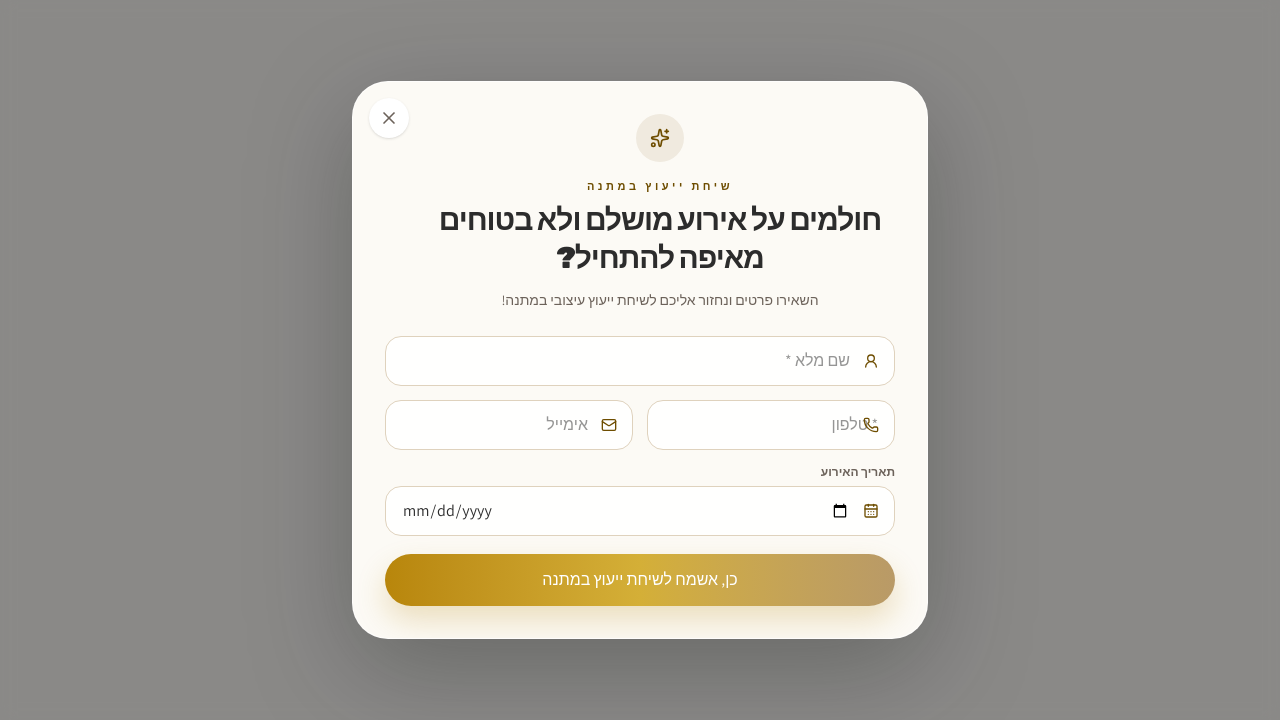
Test: LeadCaptureModal › validates email format only when an email was supplied
The width and height of the screenshot is (1280, 720).
Type "ניסן סיני" into the field labelled "שם מלא".
click(640, 361); type("ניסן סיני")  # box left=385, top=336, right=895, bottom=386
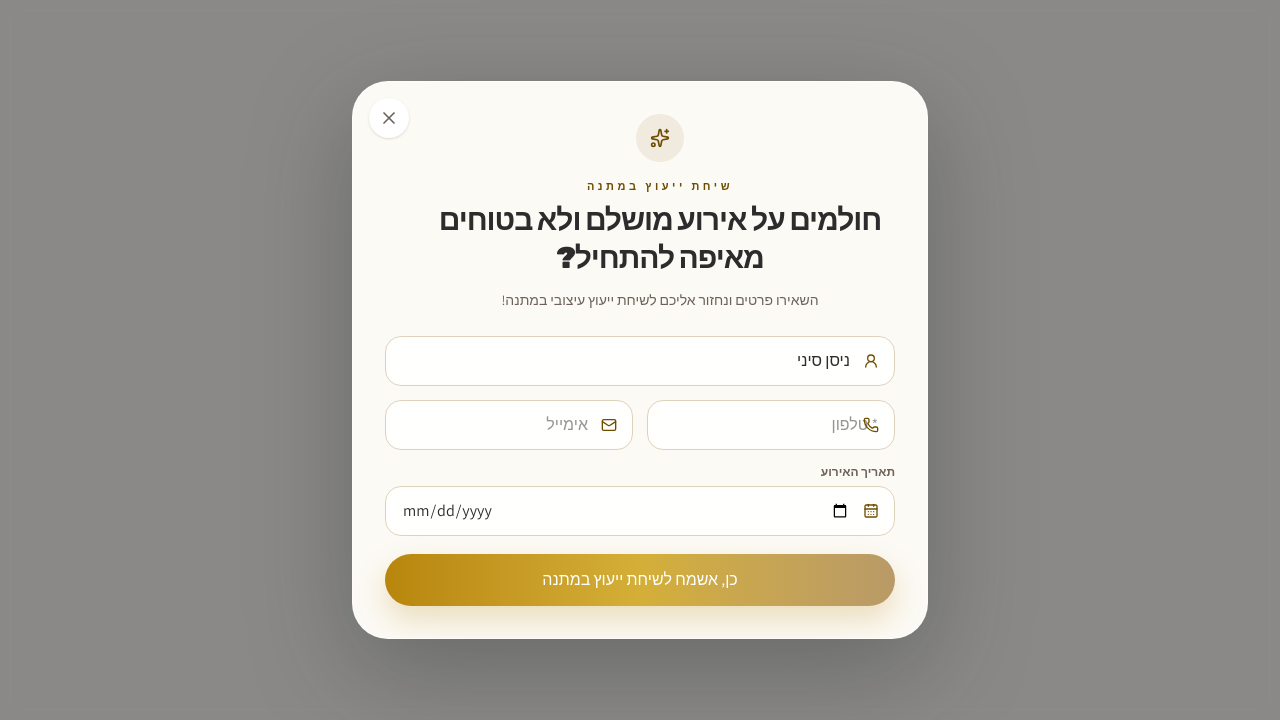
Type "054-1234567" into the field labelled "טלפון".
click(771, 425); type("054-1234567")  # box left=647, top=400, right=895, bottom=450
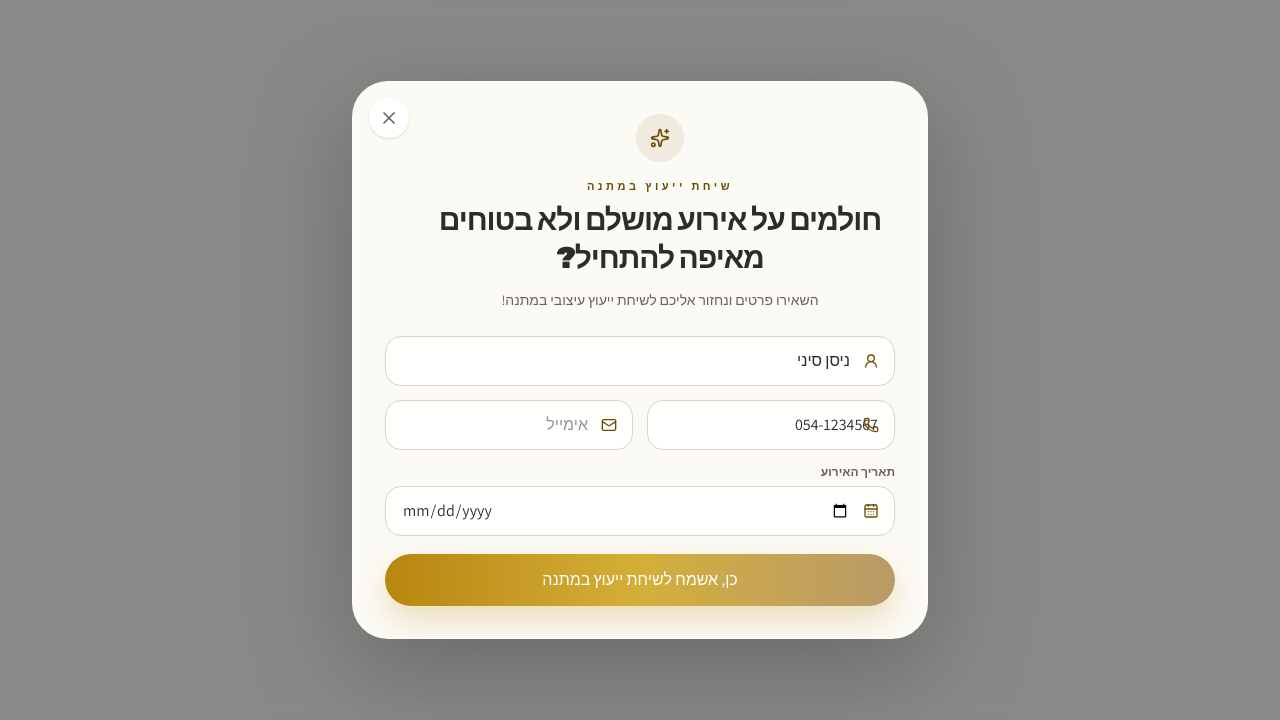
Type "not-an-email" into the field labelled "אימייל".
click(509, 425); type("not-an-email")  # box left=385, top=400, right=633, bottom=450
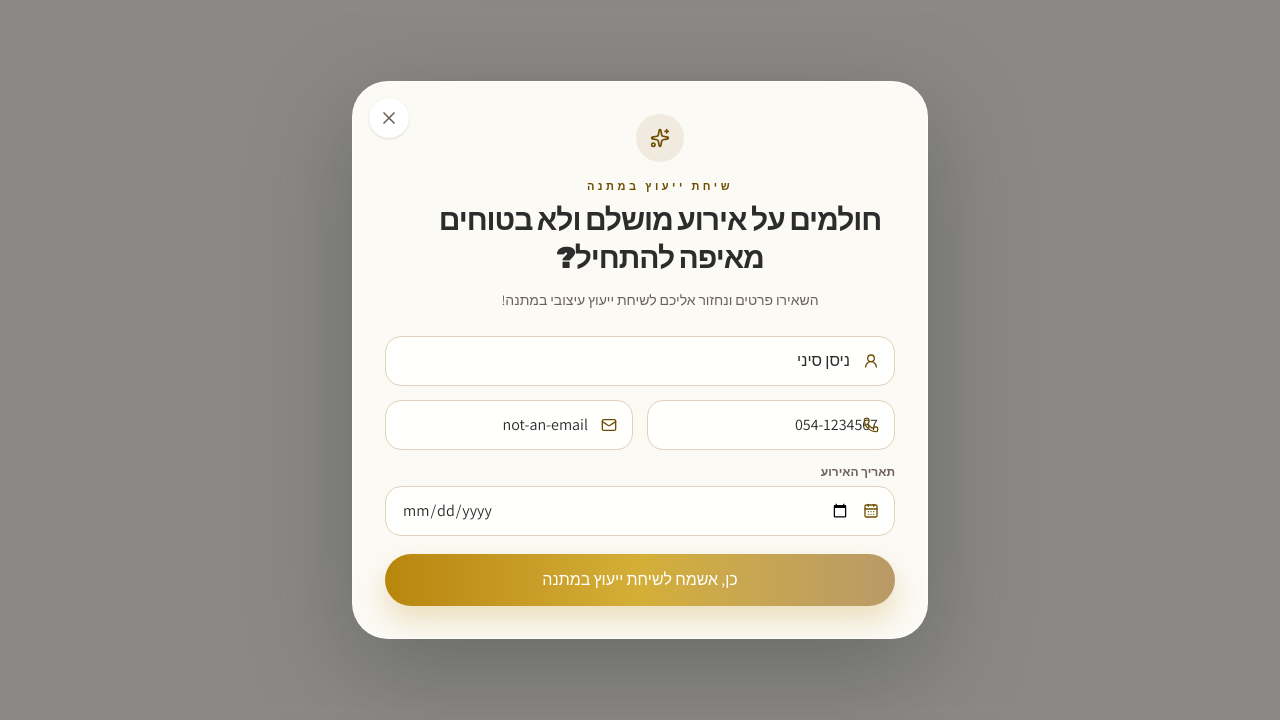
Click the button "כן, אשמח לשיחת ייעוץ במתנה".
click(640, 580)  # box left=385, top=554, right=895, bottom=606
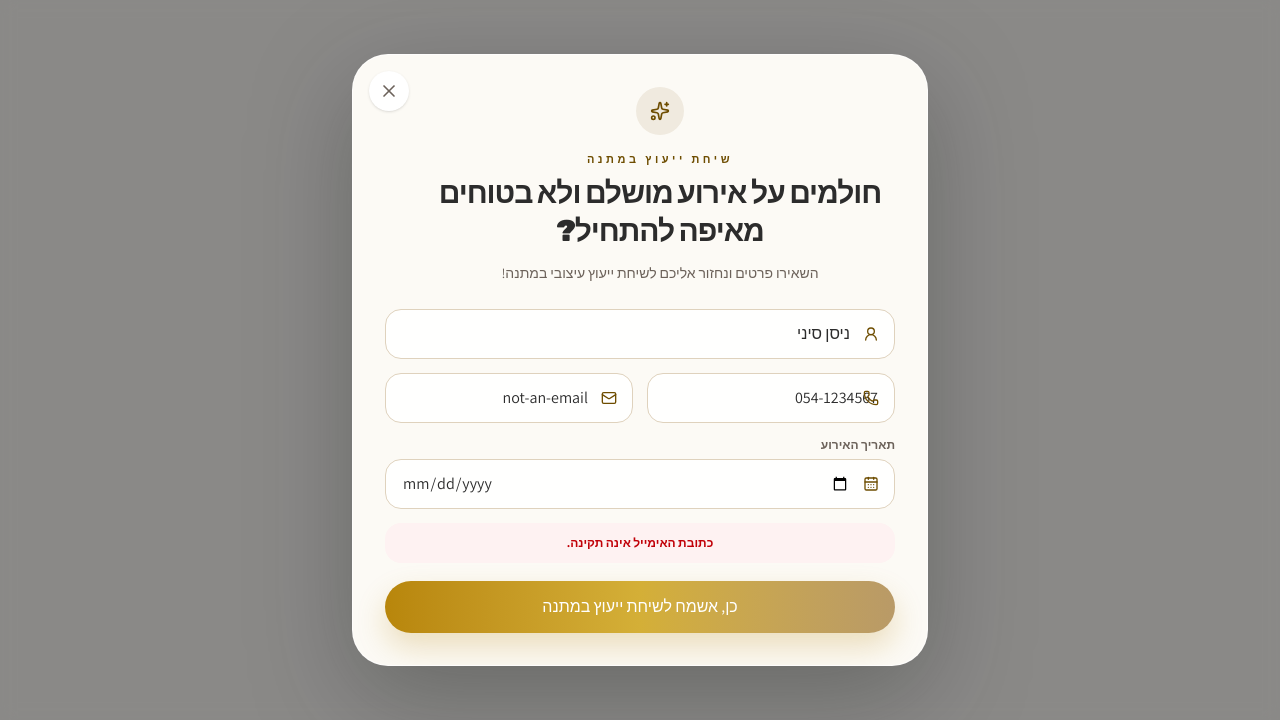
Check: the message reads "כתובת האימייל אינה תקינה.", box left=567, top=535, right=713, bottom=550
